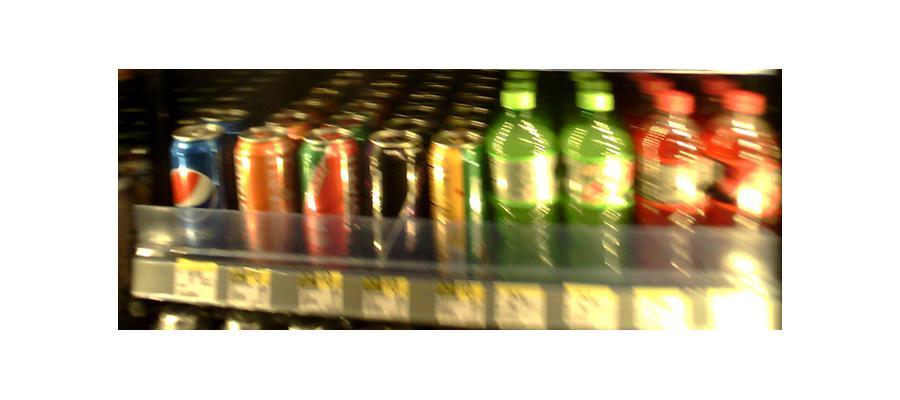bottle: (557, 86, 631, 275), (488, 81, 556, 273), (638, 93, 696, 268), (428, 110, 488, 274), (300, 128, 360, 263), (234, 124, 295, 253), (367, 131, 423, 268), (169, 118, 224, 243)
